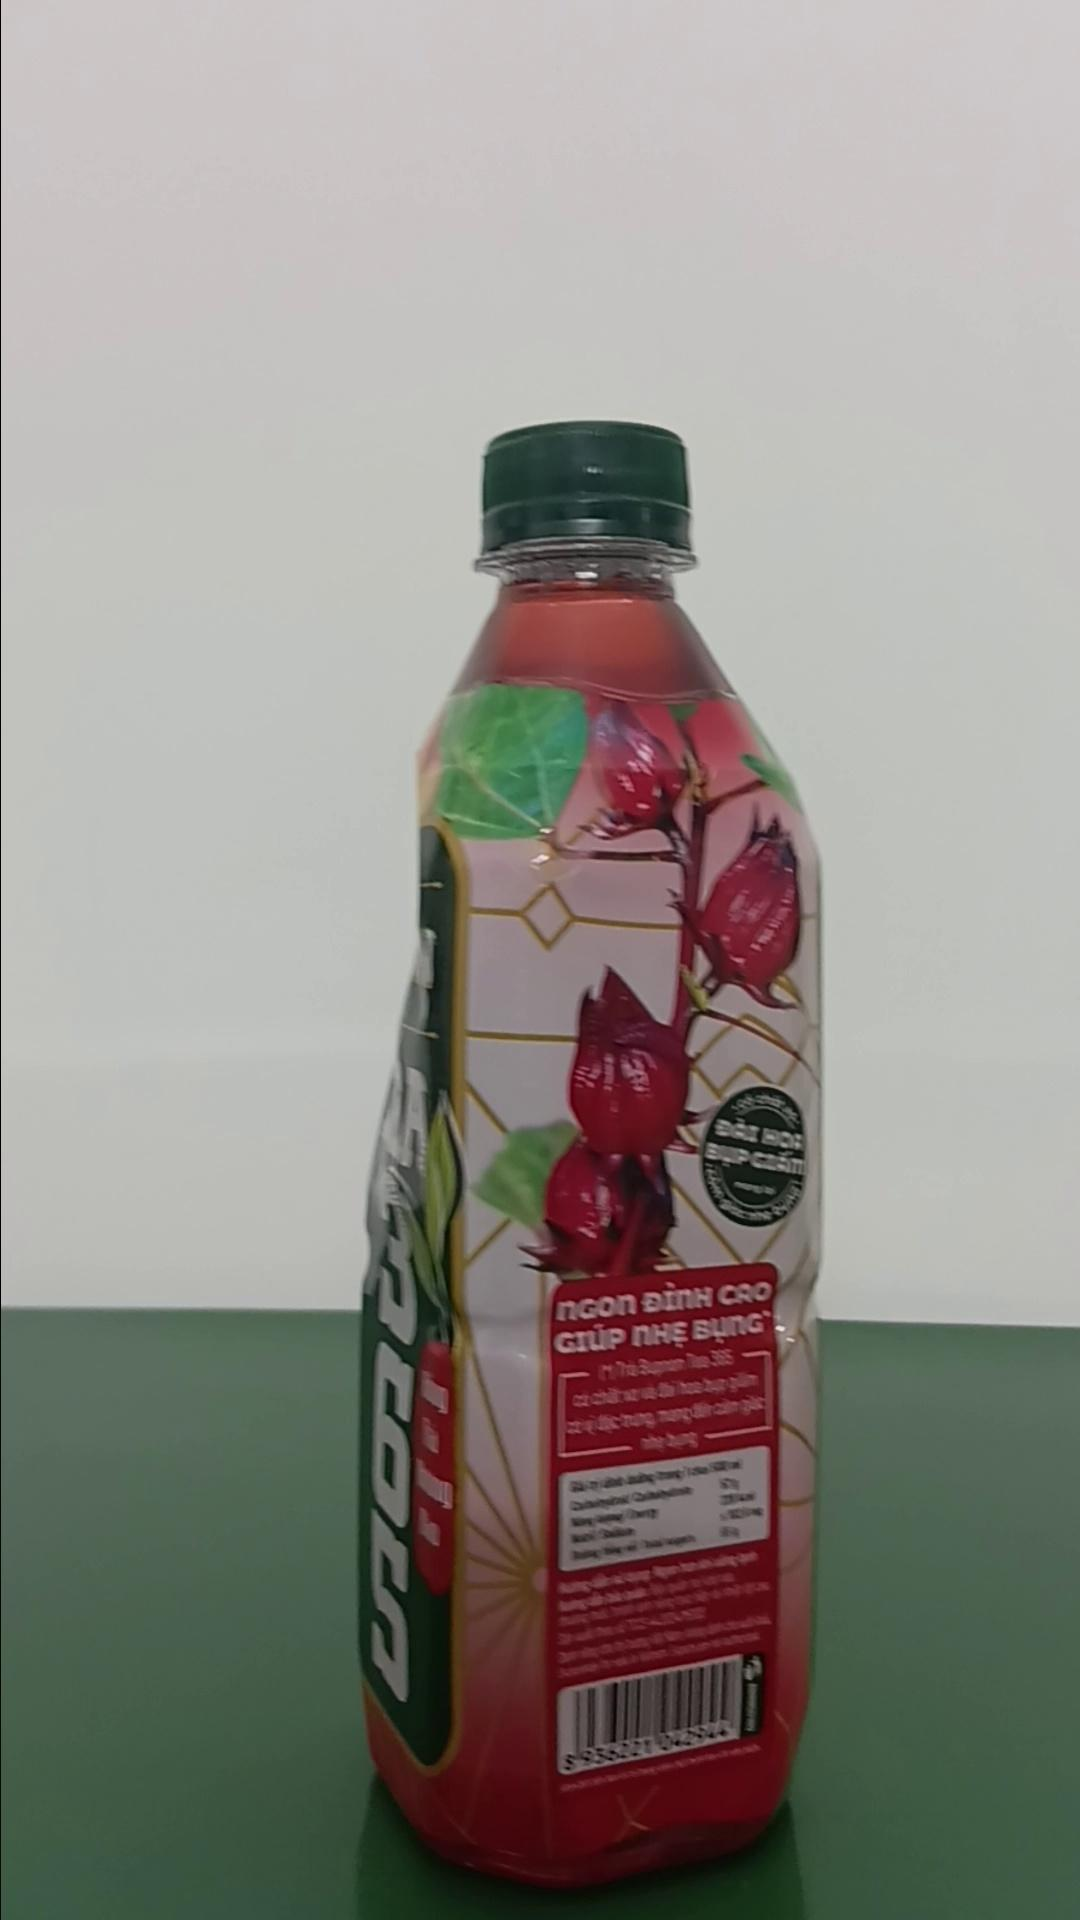loi meo sp: (353, 415, 829, 1888)
